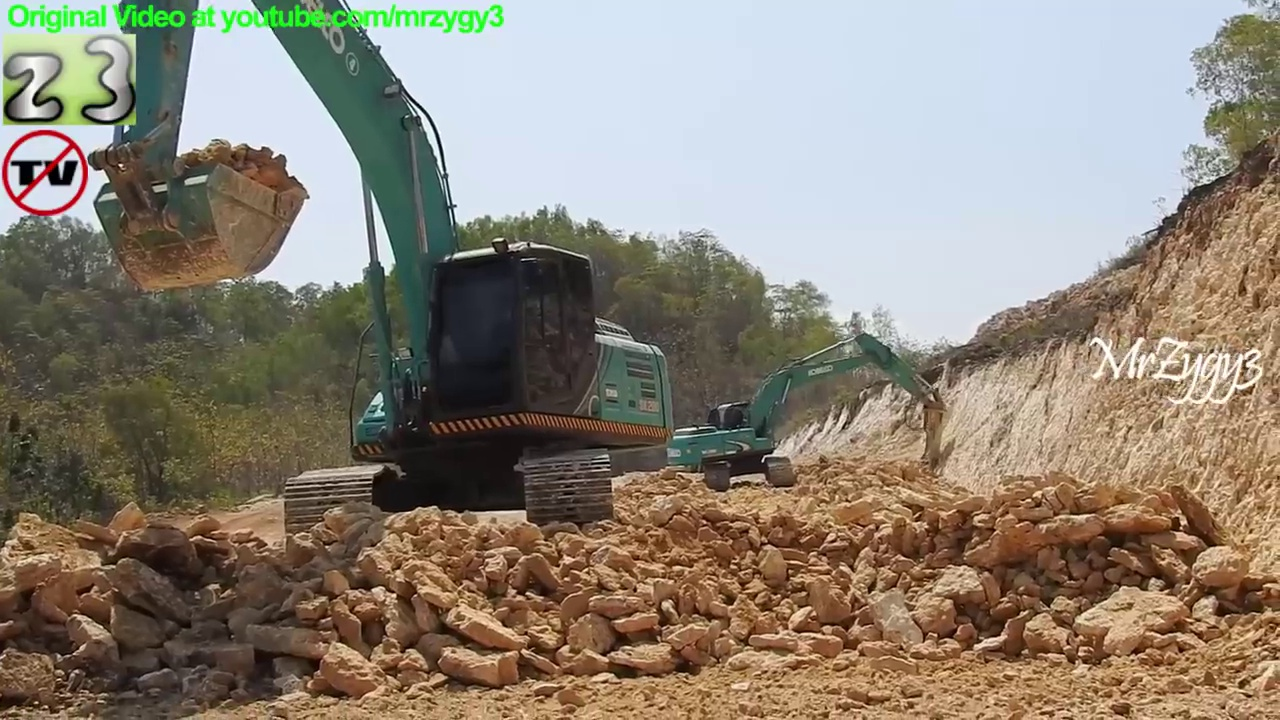excavator: (84, 1, 681, 562)
excavator breaker: (662, 327, 950, 496)
